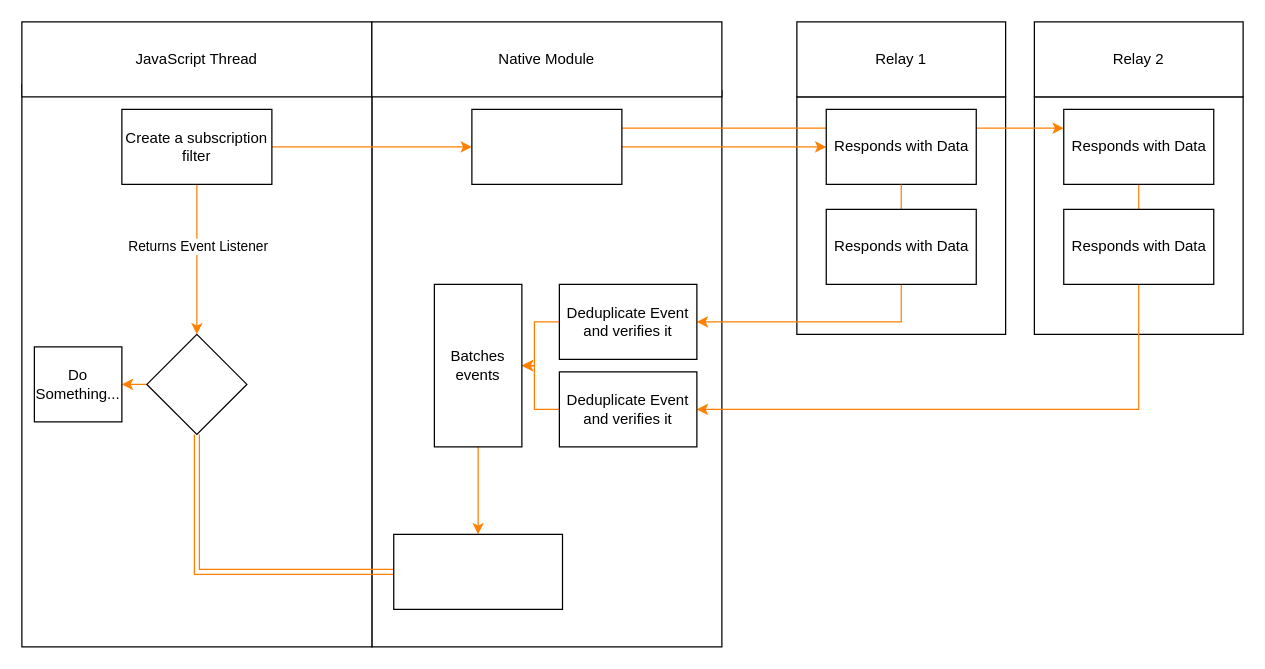
This 1265x669 diagram has some shape labels left out. The box of each missing label's shape, as (x1, y1, x2, y2) in pixels:
Create a subscription with multiple relays: (471, 108, 622, 184)
Emits Event with batched event in payload every 500ms: (392, 533, 562, 609)
Listen for events: (146, 333, 247, 434)
